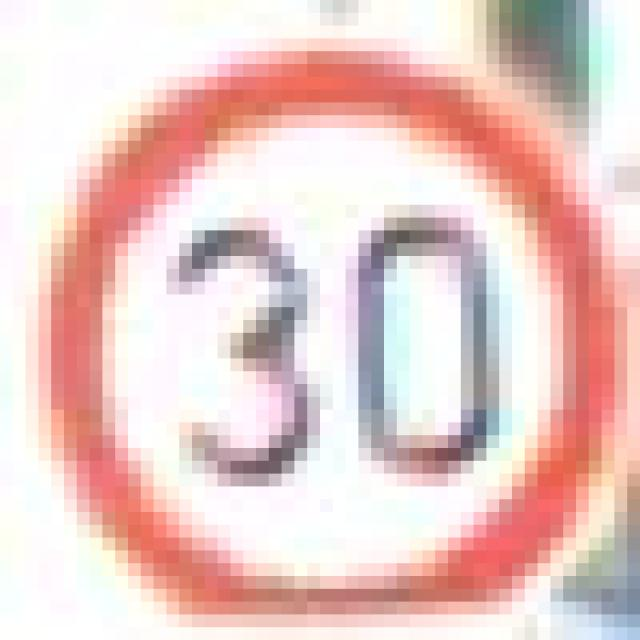SPEED_LIMIT_30: (26, 26, 627, 614)
